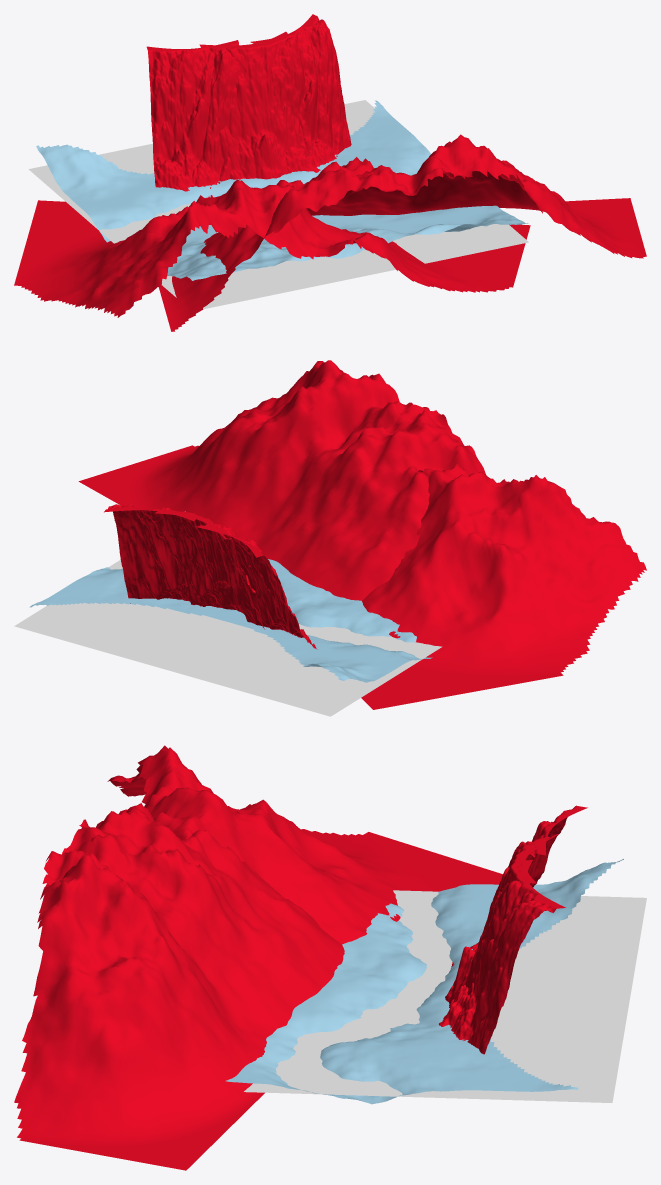
The model's file is Landscape.fbx.
3 views of the same model, one above another, from view 1: azimuth 30°, elevation 25°; view 2: azimuth 150°, elevation 25°; view 3: azimuth 270°, elevation 25° (orthographic). The views are drawn at different scales.
Parts seen in each view (by area): view 1: Landscape; view 2: Landscape; view 3: Landscape.
Part boxes in pixels (x1,y1,x2,y2): Landscape: (14, 14, 646, 331); Landscape: (14, 360, 646, 716); Landscape: (14, 745, 646, 1170).
Size of the model in its own units: 147462 by 38011 by 113913.
